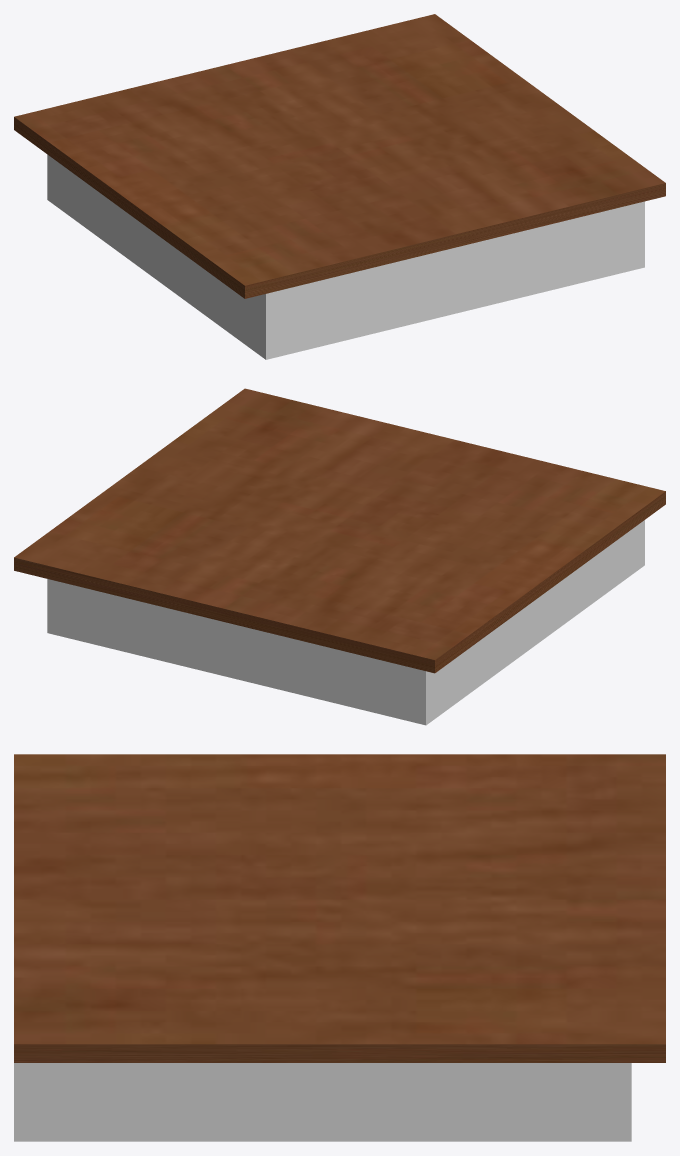
File: Landing.glb
The picture shows the model from 3 angles, top to bottom: view 1: azimuth 30°, elevation 25°; view 2: azimuth 150°, elevation 25°; view 3: azimuth 270°, elevation 25°; orthographic projection. The views are drawn at different scales.
Parts seen in each view (by area): view 1: Cube, 3DGeom-1; view 2: Cube, 3DGeom-1; view 3: Cube, 3DGeom-1.
Boxes of the visible parts, box(x1,y1,x2,y2) form: Cube: box(14, 14, 665, 298); 3DGeom-1: box(47, 154, 644, 359); Cube: box(14, 388, 665, 673); 3DGeom-1: box(47, 520, 644, 725); Cube: box(14, 754, 665, 1062); 3DGeom-1: box(14, 1063, 631, 1141).
Bounding box in the file's own units: 1 × 0.18 × 0.95.
2 materials, 1 textured.
